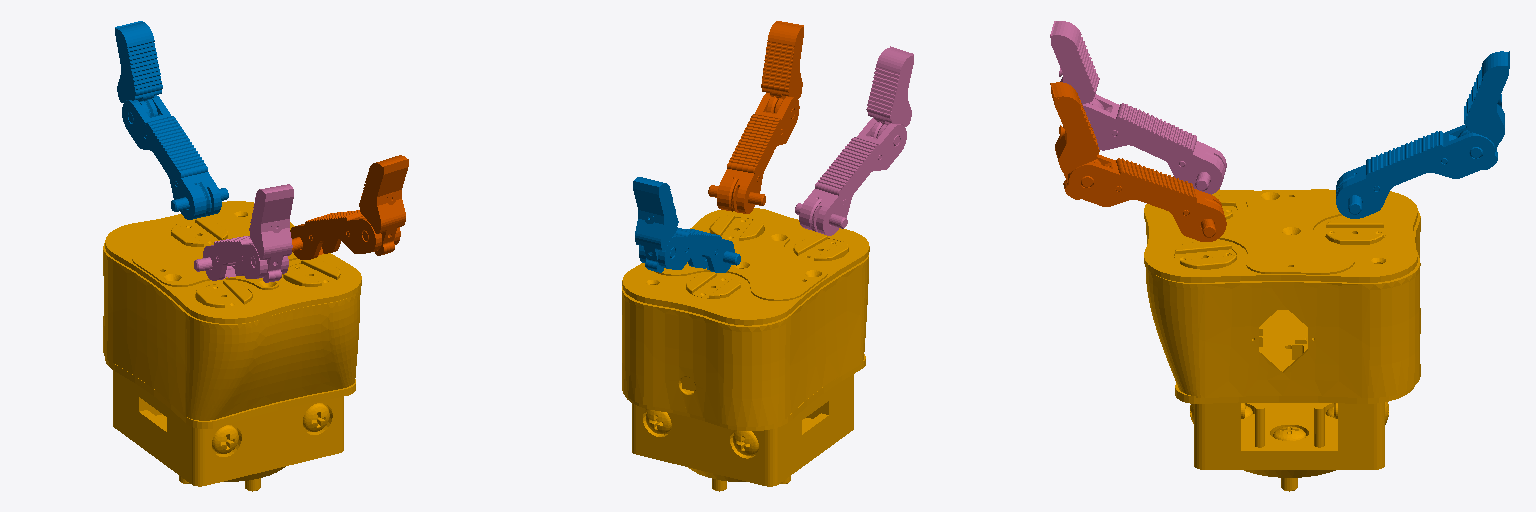
URDF robot description (chwytak):
<?xml version="1.0"?>
<robot name="chwytak">

  <link name="base_link">
    <visual>
      <geometry>
        <mesh filename="package://wezelROS/description/meshes/base.stl"/>
      </geometry>
      <origin xyz="0 0 0" rpy="1.57 0 3.14"/>
    </visual>
  </link>

  <link name="palec1_obrot">
    <visual>
      <geometry>
        <mesh filename="package://wezelROS/description/meshes/finger_base.stl"/>
      </geometry>
      <origin xyz="0 0 0" rpy="1.57 0 0"/>
    </visual>
  </link>

  <link name="palec2_obrot">
    <visual>
      <geometry>
        <mesh filename="package://wezelROS/description/meshes/finger_base.stl"/>
      </geometry>
      <origin xyz="0 0 0" rpy="1.57 0 3.14"/>
    </visual>
  </link>

  <link name="palec3_obrot">
    <visual>
      <geometry>
        <mesh filename="package://wezelROS/description/meshes/finger_base.stl"/>
      </geometry>
      <origin xyz="0 0 0" rpy="1.57 0 3.14"/>
    </visual>
  </link>

  <link name="palec1">
    <visual>
      <geometry>
        <mesh filename="package://wezelROS/description/meshes/finger.stl"/>
      </geometry>
      <origin xyz="0 0 0" rpy="1.57 0 0"/>
    </visual>
  </link>

  <link name="palec2">
    <visual>
      <geometry>
        <mesh filename="package://wezelROS/description/meshes/finger.stl"/>
      </geometry>
      <origin xyz="0 0 0" rpy="1.57 0 3.14"/>
    </visual>
  </link>
  <link name="palec3">
    <visual>
      <geometry>
        <mesh filename="package://wezelROS/description/meshes/finger.stl"/>
      </geometry>
      <origin xyz="0 0 0" rpy="1.57 0 3.14"/>
    </visual>
  </link>

  <joint name="swivel1" type="fixed">
    <parent link="base_link"/>
    <child link="palec1_obrot"/>
    <axis xyz="0 0 1"/>
    <origin xyz="0 0.04 0.021352"/>
    <limit lower="-1.57" upper="1.57" effort="30" velocity="5"/>
  </joint>

  <joint name="swivel2" type="continuous">
    <parent link="base_link"/>
    <child link="palec2_obrot"/>
    <axis xyz="0 0 1"/>
    <origin xyz="0.026 -0.030397 0.021352" rpy="0 0 0.1185"/>
    <limit lower="-1.57" upper="1.57" effort="30" velocity="5"/>
  </joint>

  <joint name="swivel3" type="continuous">
    <parent link="base_link"/>
    <child link="palec3_obrot"/>
    <axis xyz="0 0 1"/>
    <origin xyz="-0.026 -0.030397 0.021352" rpy="0 0 -0.1185"/>
    <limit lower="-1.57" upper="1.57" effort="30" velocity="5"/>
    <mimic joint="swivel2" multiplier="-1"/>
  </joint>

  <joint name="swivelpalec" type="revolute">
    <parent link="palec1_obrot"/>
    <child link="palec1"/>
    <axis xyz="1 0 0"/>
    <origin xyz="0 0 0"/>
    <limit lower="-1" upper="1.57" effort="30" velocity="5"/>
  </joint>

  <joint name="swivelpalec2" type="revolute">
    <parent link="palec2_obrot"/>
    <child link="palec2"/>
    <axis xyz="1 0 0"/>
    <origin xyz="0 0 0"/>
    <limit lower="-1.57" upper="1" effort="30" velocity="5"/>
  </joint>

  <joint name="swivelpalec3" type="revolute">
    <parent link="palec3_obrot"/>
    <child link="palec3"/>
    <axis xyz="1 0 0"/>
    <origin xyz="0 0 0"/>
    <limit lower="-1.57" upper="1" effort="30" velocity="5"/>
  </joint>

</robot>

--- Facts derived from the render (not from the file) ---
The picture shows the robot from 3 angles, left to right: view 1: azimuth 30°, elevation 25°; view 2: azimuth 150°, elevation 25°; view 3: azimuth 270°, elevation 25°; orthographic projection.
Model chwytak with 7 links and 6 joints (3 revolute, 2 continuous, 1 fixed), rooted at base_link, posed all joints at 0.
Links seen in each view (by area): view 1: base_link, palec1, palec2, palec3; view 2: base_link, palec3, palec2, palec1; view 3: base_link, palec1, palec2, palec3.
Boxes of the visible links, box(x1,y1,x2,y2) form: base_link: box(103, 201, 361, 491); palec1: box(115, 21, 228, 219); palec2: box(290, 155, 408, 259); palec3: box(194, 184, 293, 282); base_link: box(622, 208, 869, 491); palec3: box(795, 46, 913, 235); palec2: box(708, 21, 803, 213); palec1: box(633, 177, 740, 272); base_link: box(1144, 189, 1420, 491); palec1: box(1336, 51, 1509, 218); palec2: box(1050, 82, 1226, 241); palec3: box(1050, 21, 1226, 194).
Bounding box of the posed robot: 0.0995 × 0.2164 × 0.2121 m (x, y, z).
4 mesh visuals loaded from 3 distinct referenced files (2 binary STL); not drawn: 3 (reference not matched to a file when rendering).
